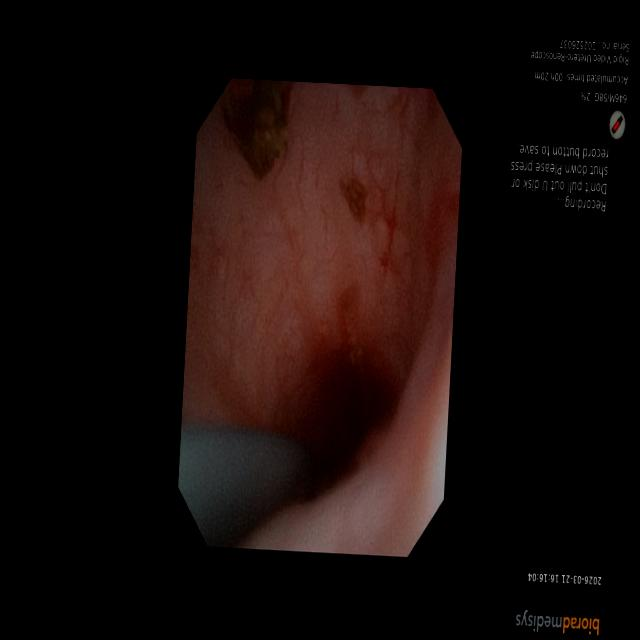stone-new: (224, 80, 290, 180)
